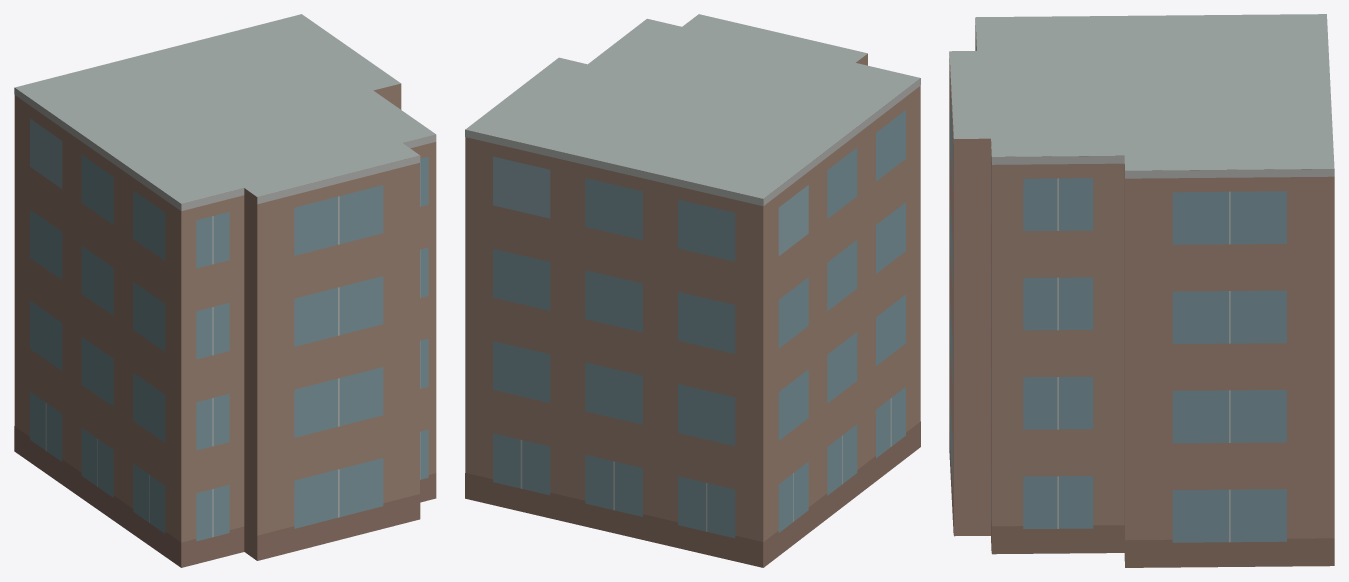
Rendered from residential-bf648792-785a-40cb-9cf2-d8d0374f1af5.glb.
3 renders of one model, left to right at view 1: azimuth 30°, elevation 25°; view 2: azimuth 150°, elevation 25°; view 3: azimuth 270°, elevation 25°, orthographic. The views are drawn at different scales.
Parts seen in each view (by area): view 1: residential-bf648792-785a-40cb-9cf2-d8d0374f1af5.tmp; view 2: residential-bf648792-785a-40cb-9cf2-d8d0374f1af5.tmp; view 3: residential-bf648792-785a-40cb-9cf2-d8d0374f1af5.tmp.
Part boxes in pixels (box(x1,y1,x2,y2)): residential-bf648792-785a-40cb-9cf2-d8d0374f1af5.tmp: box(14, 14, 436, 567); residential-bf648792-785a-40cb-9cf2-d8d0374f1af5.tmp: box(465, 14, 920, 567); residential-bf648792-785a-40cb-9cf2-d8d0374f1af5.tmp: box(949, 14, 1334, 567).
Size of the model in its own units: 10.33 by 12.2 by 10.73.
